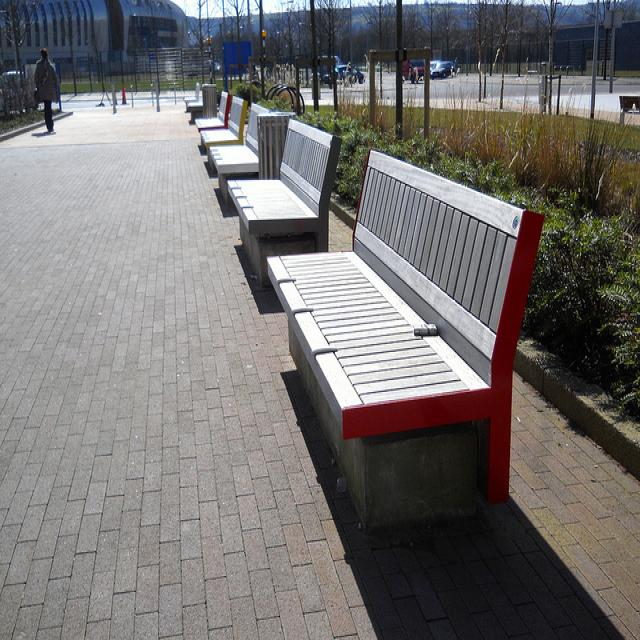Vehicle: (1, 72, 39, 110), (317, 55, 347, 73), (338, 66, 364, 85), (402, 60, 424, 79), (432, 61, 454, 76)
